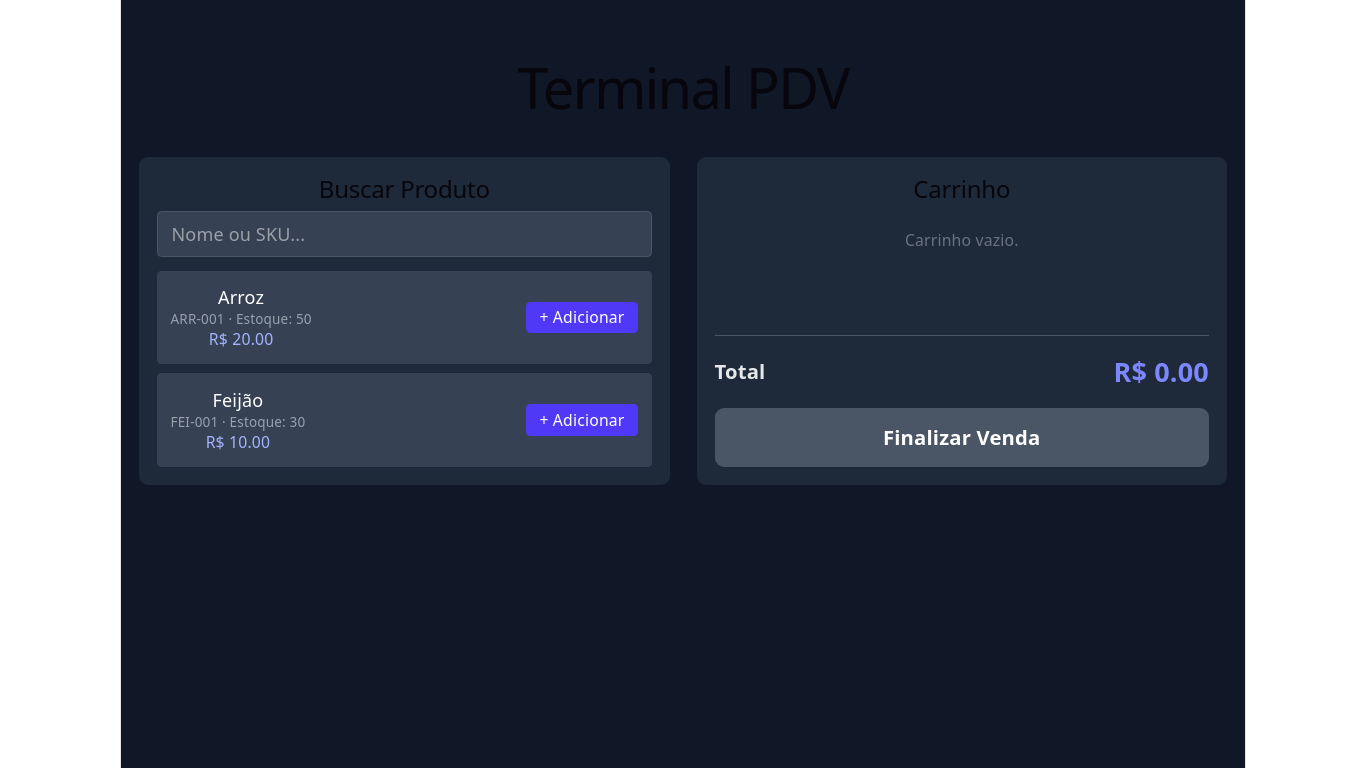
Test: PdvPage › removes item from cart when remove button clicked
Expected: the text "Arroz" is shown, [218,285,264,309]
Click the button with aria-label "Adicionar Arroz ao carrinho": point(582, 317) [526,302,638,333]
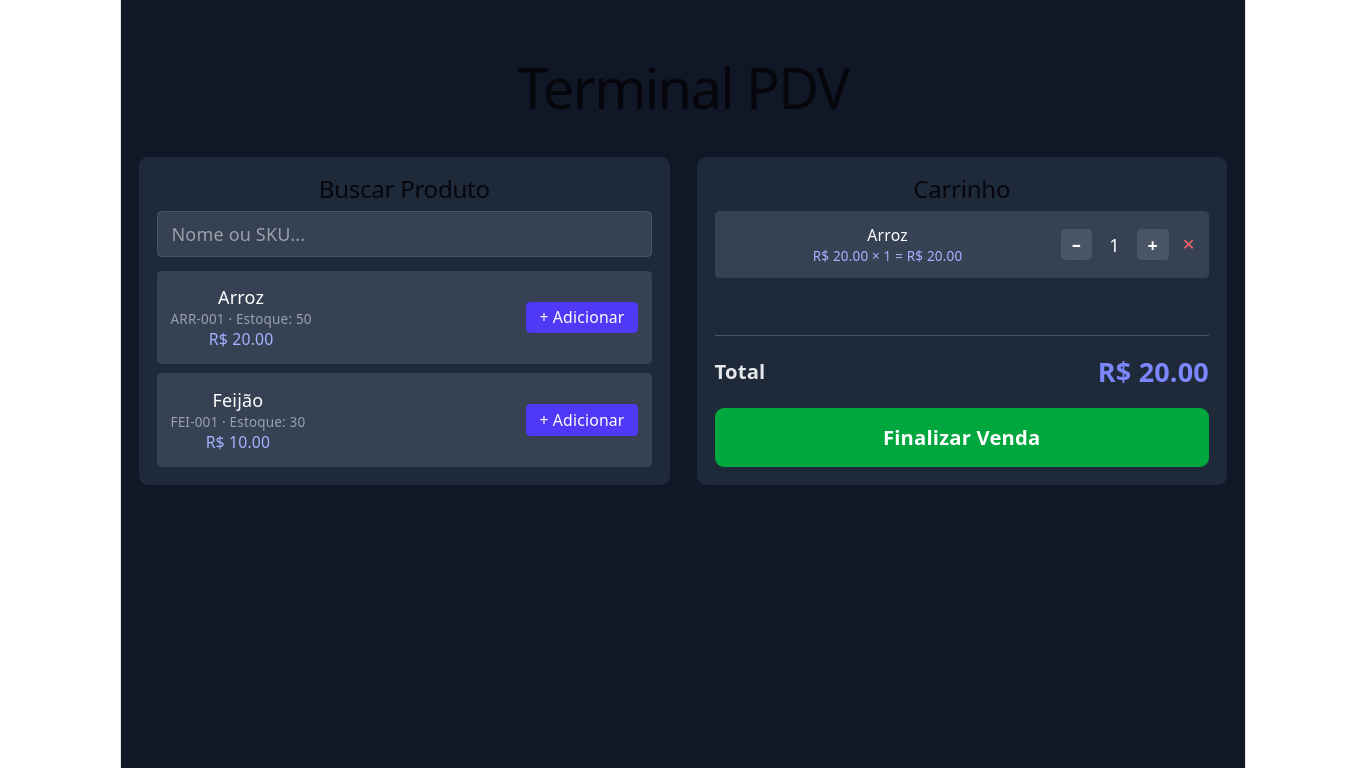
Click the button named "Remover Arroz": point(1189, 245) [1182,234,1196,256]
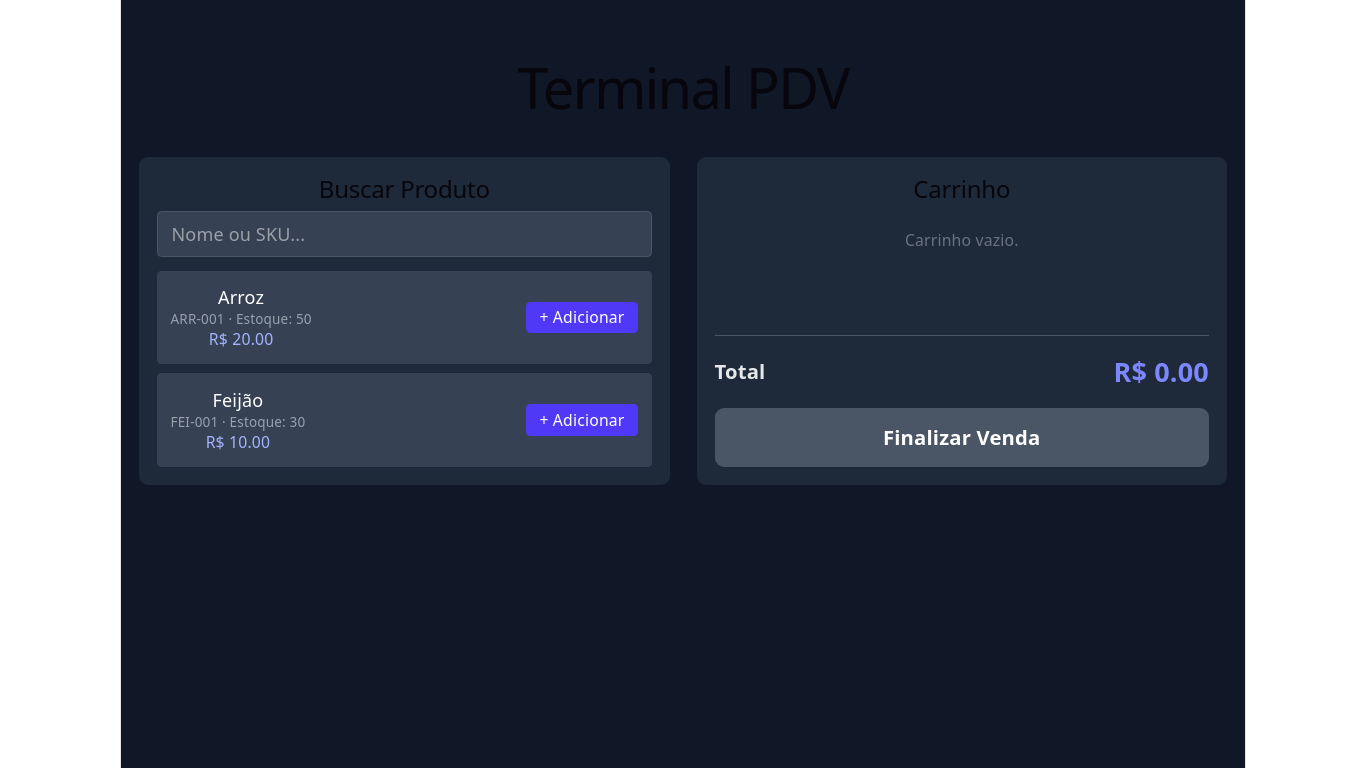
Expected: the text "Carrinho vazio." is shown, [905,229,1019,251]
